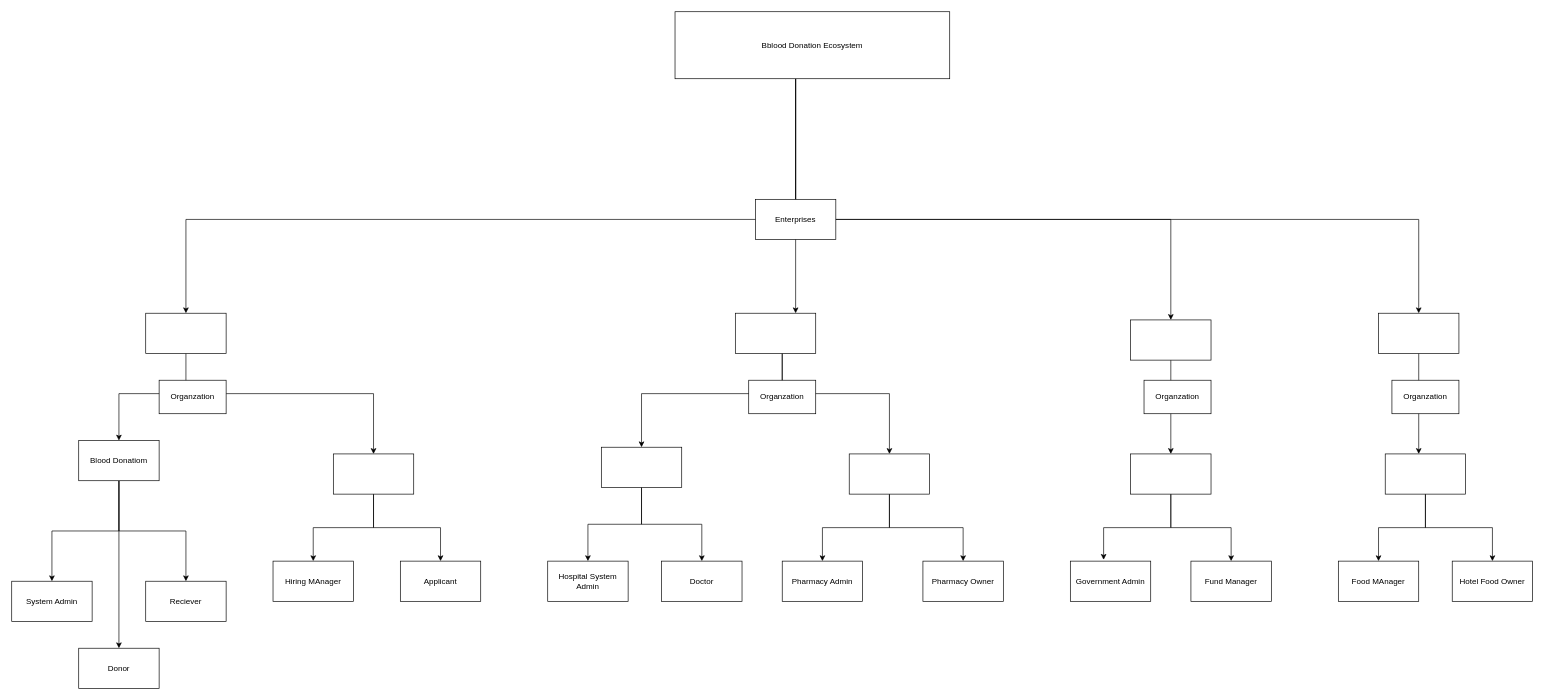
Some shapes in this 1544 by 700 pixel diagram are drawn without their labels. The box of each missing label's shape, as (x1, y1, x2, y2) in pixels:
Blood Donation Management System: (145, 313, 226, 353)
Catering: (1378, 313, 1459, 353)
Food Hotel: (1385, 453, 1466, 494)
Funds: (1130, 453, 1211, 494)
Governement: (1130, 319, 1211, 360)
Hiring Applicants: (333, 453, 414, 494)
Hospital Management System: (735, 313, 816, 353)
Hsopital: (601, 447, 682, 487)
Pharmacy: (849, 453, 930, 494)
